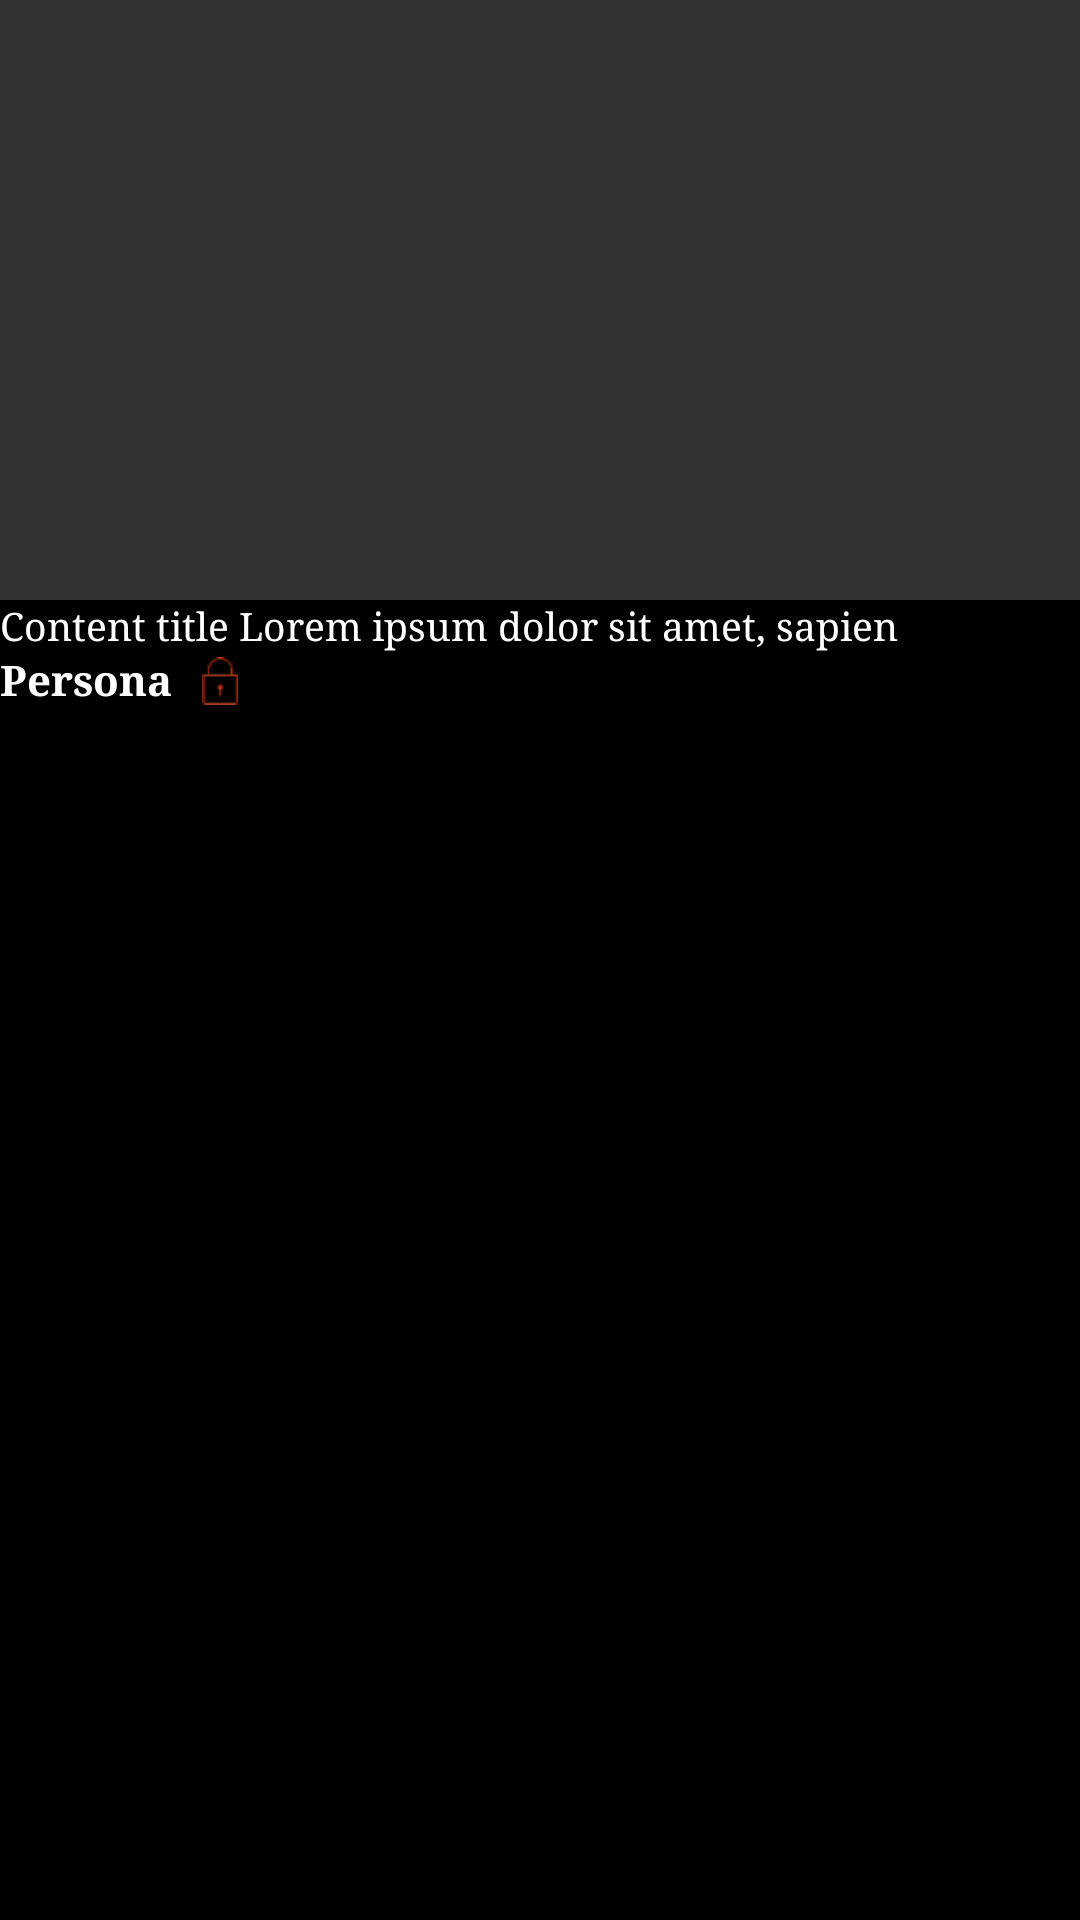

Named icons in this screenshot (1080 x 1920) and their bounding boxes, (x1, y1, x2, y2):
loc: (202, 657, 238, 705)
